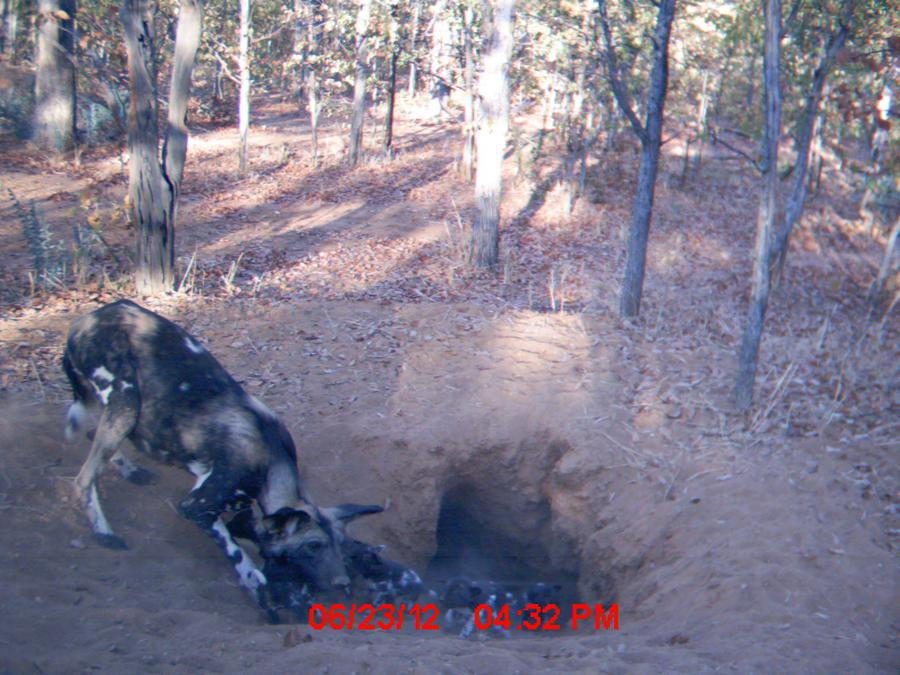wilddog: (61, 325, 345, 572)
